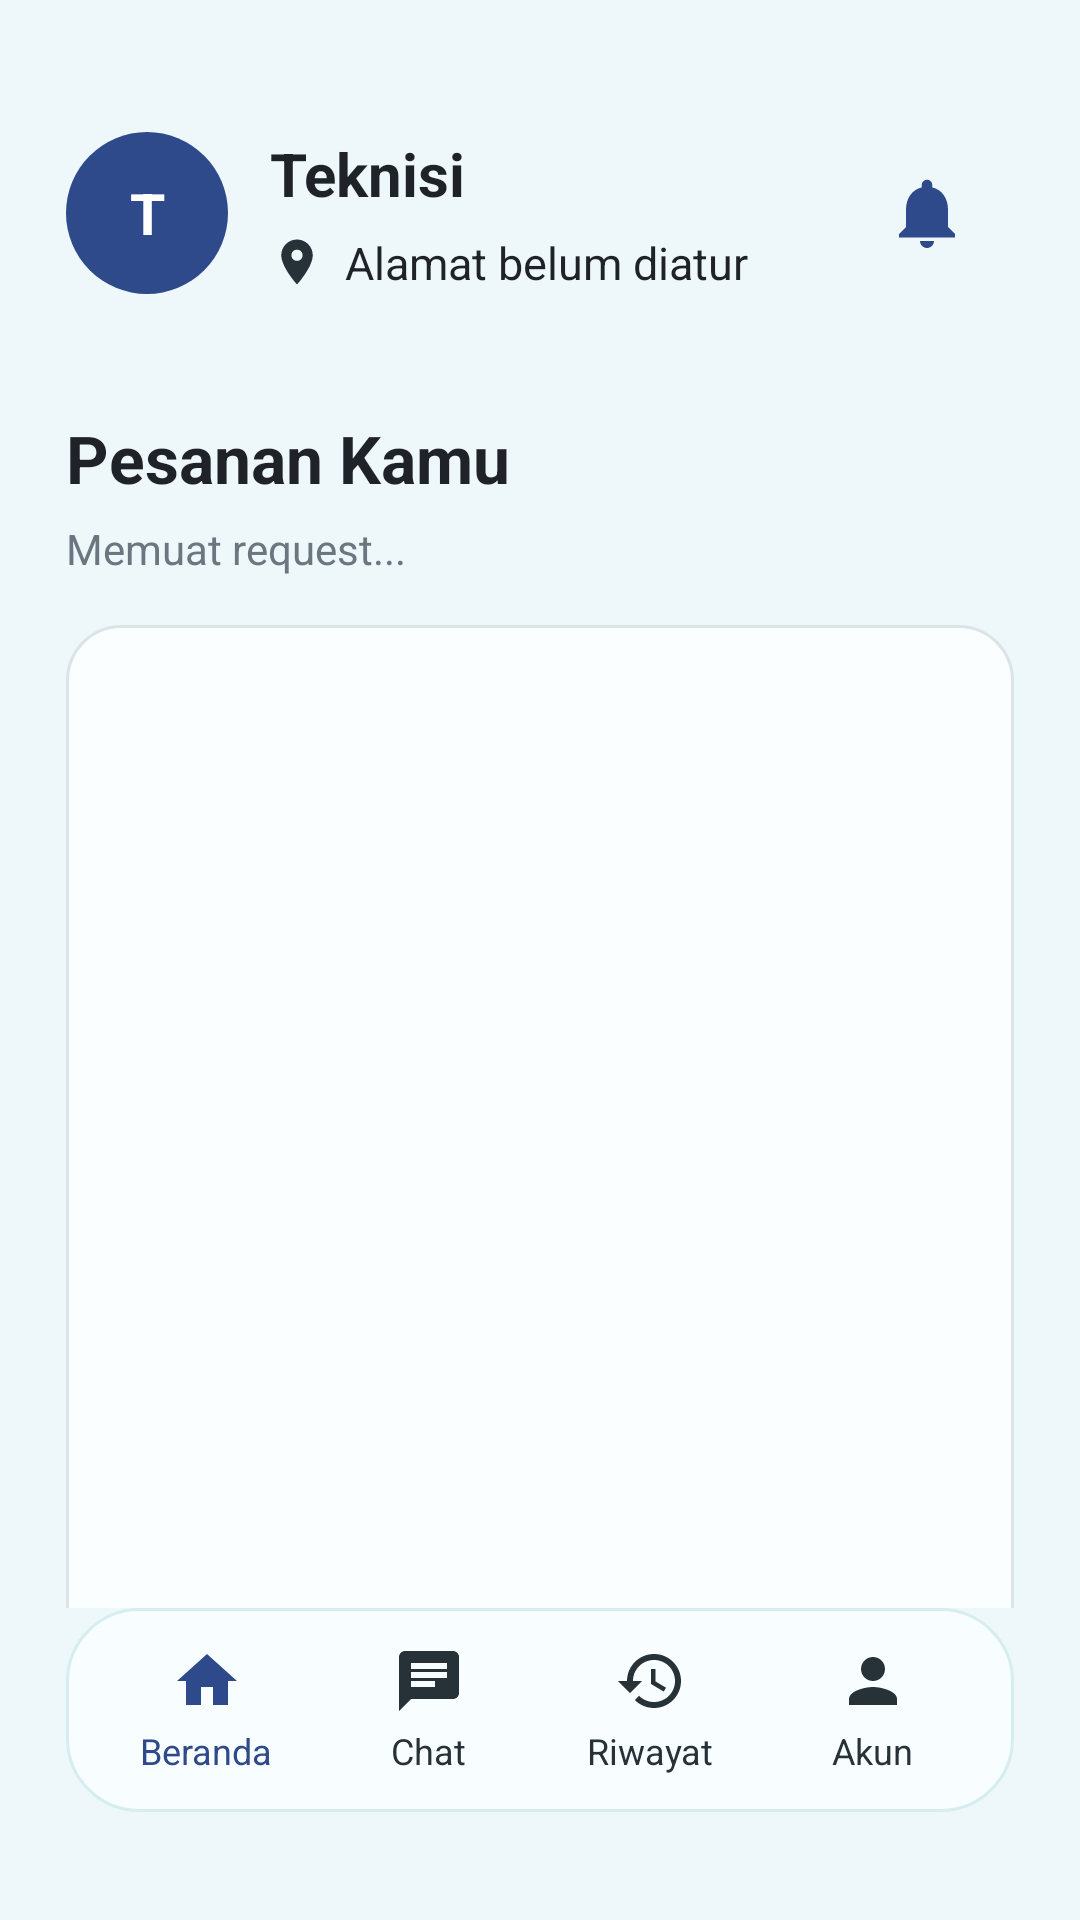

Named icons in this screenshot (1080*1920) and their bounding boxes, BBox(x1, y1, x2, y2):
bell: BBox(899, 179, 955, 248)
location pin: BBox(281, 239, 313, 284)
